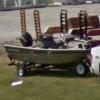Boat: (2, 31, 91, 74)
